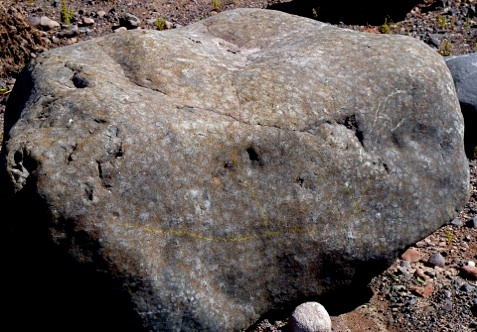obstacle: (0, 9, 468, 330)
